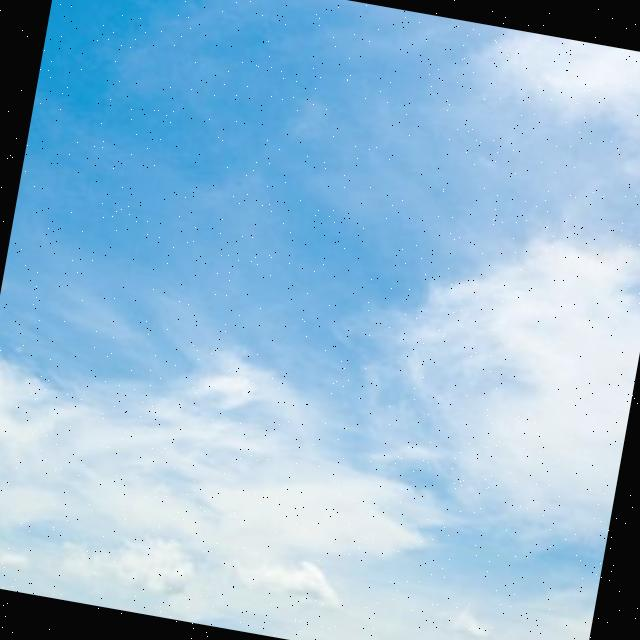Ci: (1, 125, 640, 640)
